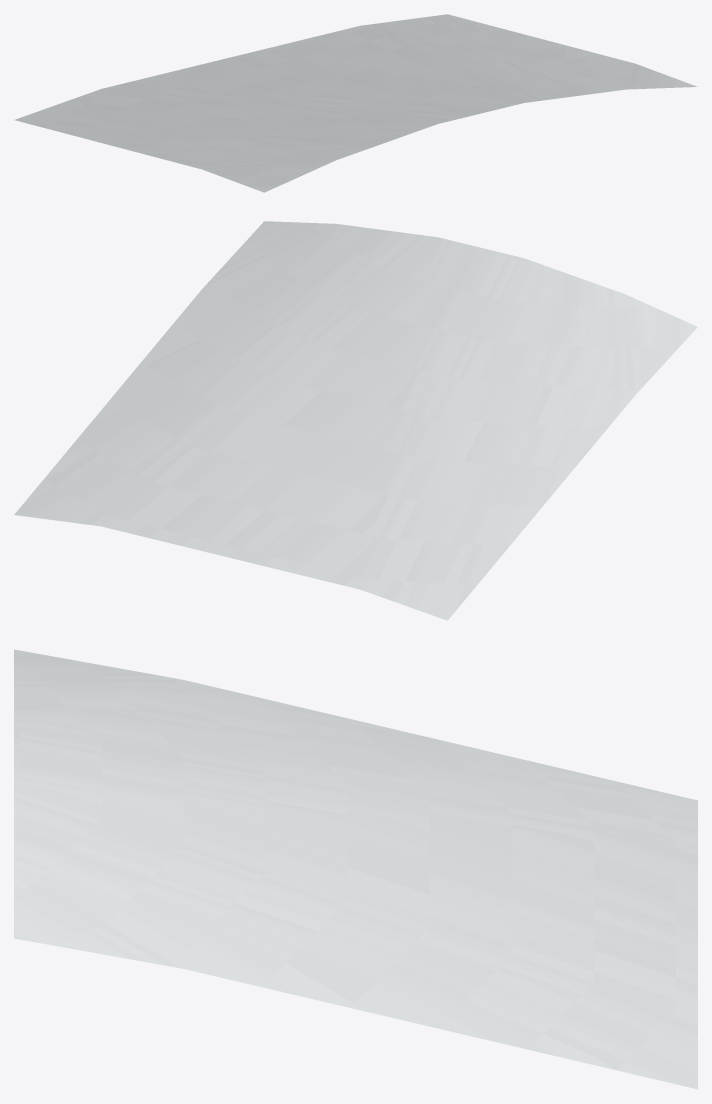
Rendered from bowl_medium_2_2_1.obj.
3 renders of one model, top to bottom at view 1: azimuth 30°, elevation 25°; view 2: azimuth 150°, elevation 25°; view 3: azimuth 270°, elevation 25°, orthographic. The views are drawn at different scales.
Parts seen in each view (by area): view 1: bowl_medium_2_2_1; view 2: bowl_medium_2_2_1; view 3: bowl_medium_2_2_1.
Part boxes in pixels (left/top/right/bottom): bowl_medium_2_2_1: left=14, top=14, right=697, bottom=192; bowl_medium_2_2_1: left=14, top=221, right=697, bottom=620; bowl_medium_2_2_1: left=14, top=649, right=697, bottom=1089.
Size of the model in its own units: 3 by 0.9048 by 3.
